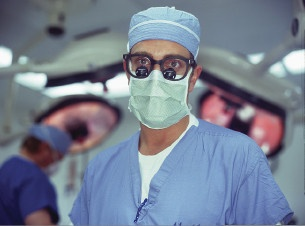Mask: (124, 48, 206, 130)
